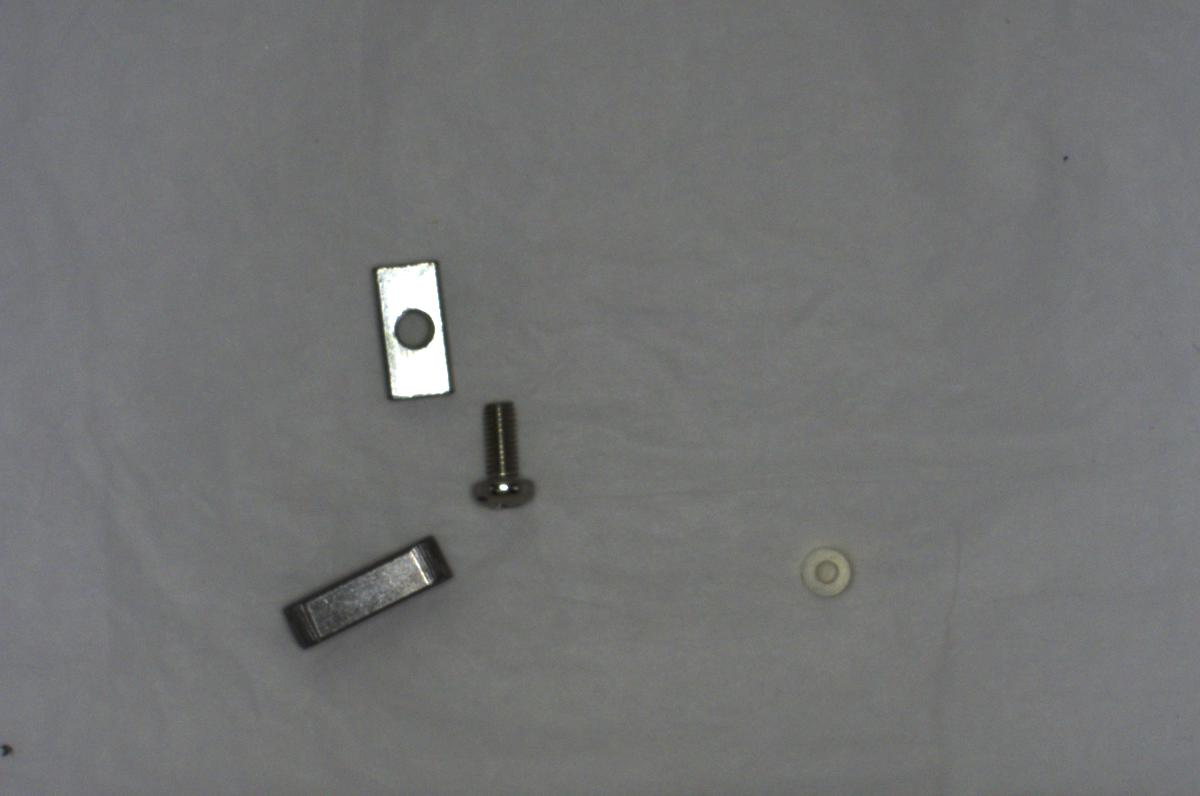Keybar: (281, 528, 454, 649)
Plastic cushion pillar: (793, 542, 860, 601)
Rectangular nut: (367, 256, 447, 399)
Round head screw: (466, 393, 537, 512)
